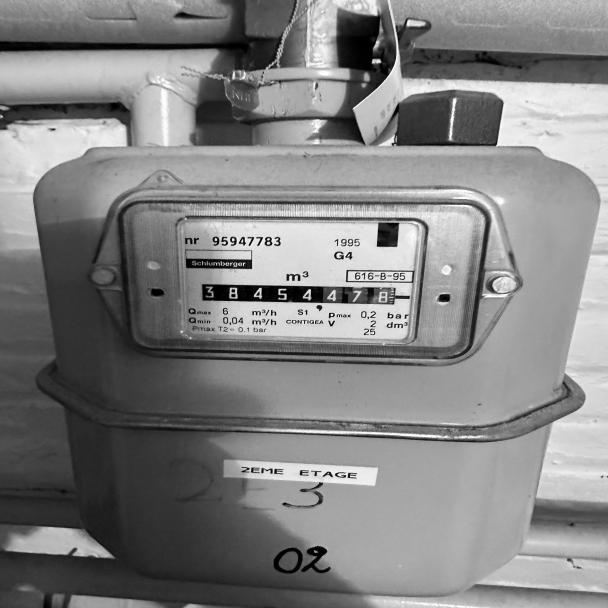3: (202, 284, 218, 302)
4: (250, 282, 272, 308), (293, 284, 319, 305), (323, 282, 341, 308)
5: (276, 285, 290, 306)
7: (341, 282, 371, 308)
8: (371, 284, 395, 308), (228, 284, 240, 306)
cm: (324, 281, 406, 315)
counter: (200, 280, 324, 310)
